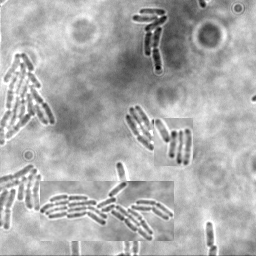Dividing: (204, 221, 215, 248)
Microcolony: (40, 181, 174, 241), (1, 51, 56, 147), (1, 162, 44, 231), (130, 8, 167, 72), (154, 118, 193, 166), (124, 106, 160, 153)
